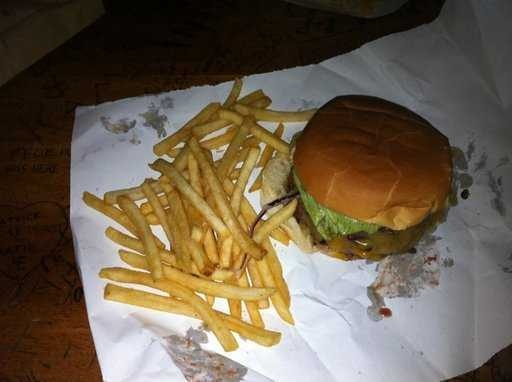hamburger: (271, 95, 461, 245)
